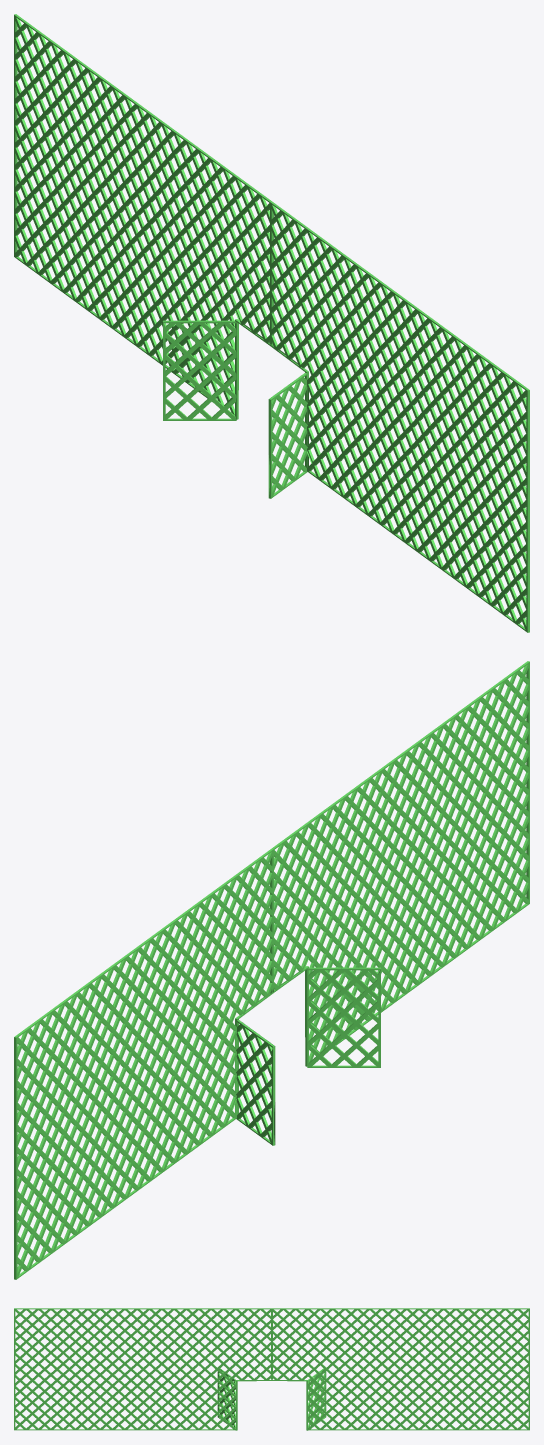
File: FenceXDoor.fbx
3 renders of one model, top to bottom at view 1: azimuth 30°, elevation 25°; view 2: azimuth 150°, elevation 25°; view 3: azimuth 270°, elevation 25°, orthographic. The views are drawn at different scales.
Parts seen in each view (by area): view 1: Fence; view 2: Fence; view 3: Fence.
Part boxes in pixels (x1=…): Fence: x1=14, y1=14, x2=529, y2=632; Fence: x1=14, y1=661, x2=529, y2=1279; Fence: x1=14, y1=1308, x2=529, y2=1430.
Bounding box in the file's own units: 1.24 × 5.04 × 19.27.
